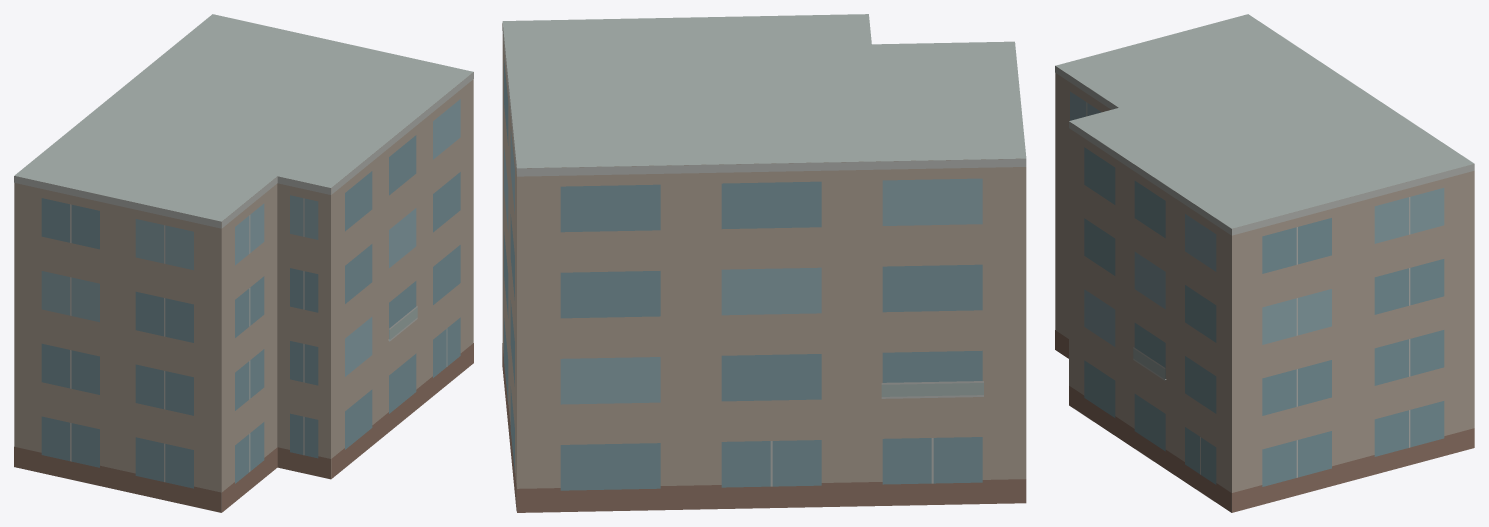
Rendered from survey-upis-32933659.glb.
3 views of the same model, side by side, from view 1: azimuth 30°, elevation 25°; view 2: azimuth 150°, elevation 25°; view 3: azimuth 270°, elevation 25° (orthographic). The views are drawn at different scales.
Parts seen in each view (by area): view 1: survey-upis-32933659.tmp; view 2: survey-upis-32933659.tmp; view 3: survey-upis-32933659.tmp.
Part boxes in pixels (bbox=[...]): survey-upis-32933659.tmp: bbox=[14, 14, 473, 512]; survey-upis-32933659.tmp: bbox=[502, 14, 1026, 512]; survey-upis-32933659.tmp: bbox=[1055, 14, 1474, 512].
Size of the model in its own units: 16.39 by 10.1 by 13.53.
